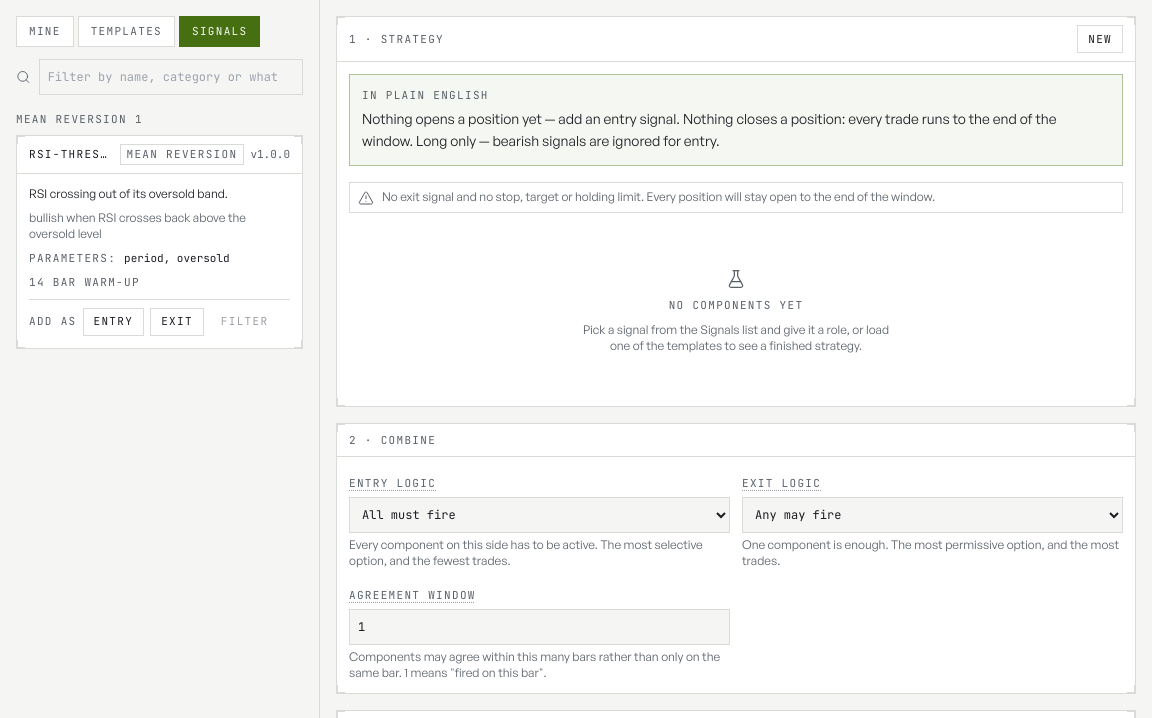
Test: StrategyBuilder › keeps a template honest against a registry that lacks its rules
The width and height of the screenshot is (1152, 718).
Expected: the element with test id "signal-catalogue" is shown, [16,58,303,348]
Click the tab "Templates" at {"x": 126, "y": 31}, box [78,16,175,46]
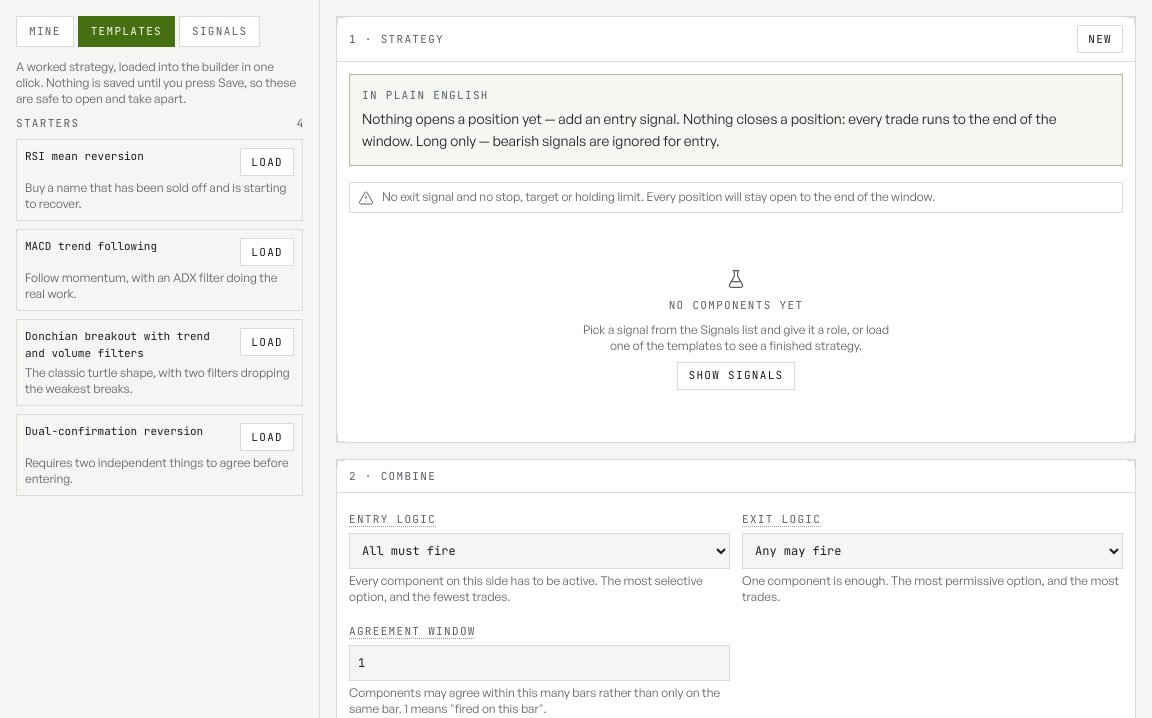
Expected: the list with test id "template-list" is shown, [16,139,303,496]
Click the button with aria-label "load the donchian breakout" at {"x": 267, "y": 342}, box [240,328,294,356]
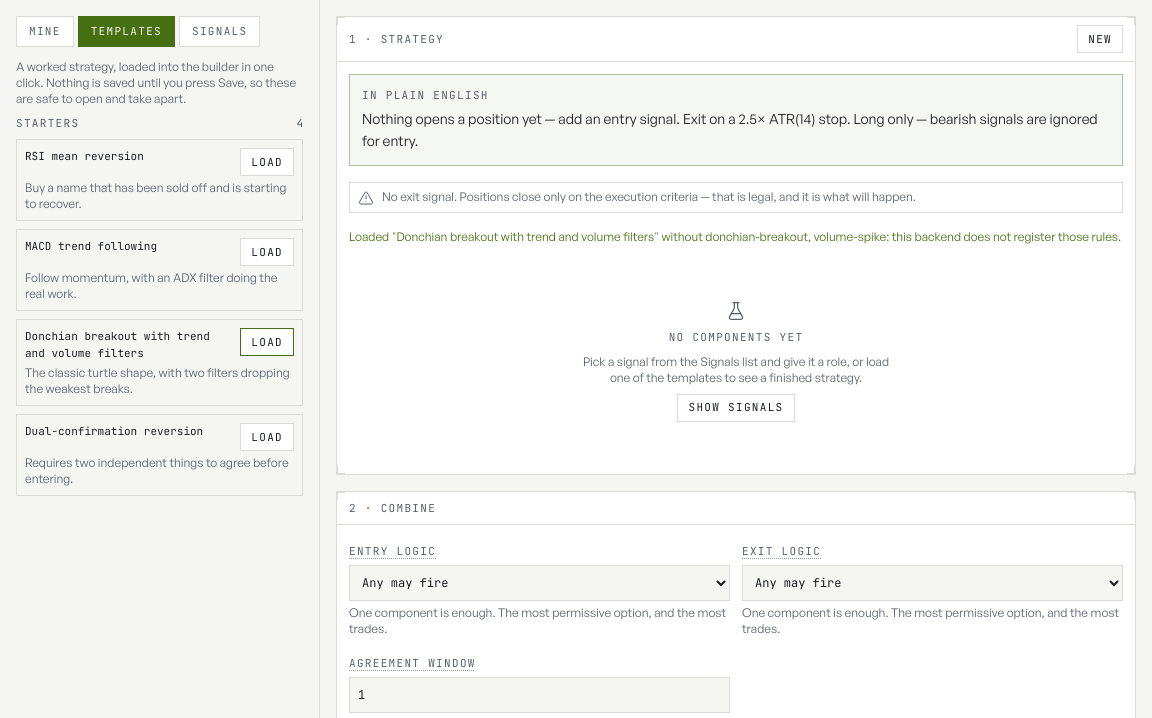
Expected: the message with test id "builder-notice" shows "donchian-breakout", [349,229,1121,244]
Expected: the message with test id "builder-notice" shows "volume-spike", [349,229,1121,244]
Expected: the message with test id "builder-notice" shows "does not register", [349,229,1121,244]
